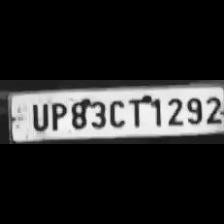1: (143, 95, 163, 127)
2: (164, 95, 184, 127), (203, 93, 223, 125)
3: (87, 97, 105, 129)
8: (68, 96, 88, 130)
9: (184, 94, 202, 124)
C: (106, 96, 127, 128)
P: (47, 99, 67, 130)
T: (127, 95, 147, 127)
U: (26, 99, 48, 131)
